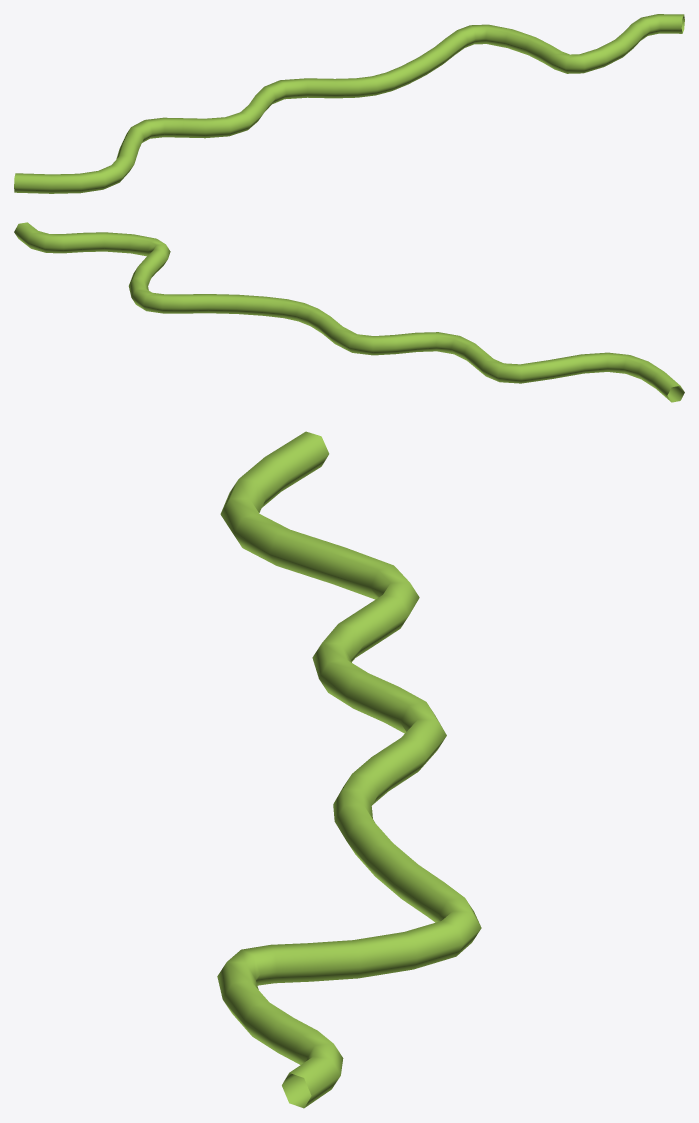
Rendered from factory-goo-pipe.obj.
3 renders of one model, top to bottom at view 1: azimuth 30°, elevation 25°; view 2: azimuth 150°, elevation 25°; view 3: azimuth 270°, elevation 25°, orthographic. The views are drawn at different scales.
Visible parts, largest first — view 1: factory-goo-pipe; view 2: factory-goo-pipe; view 3: factory-goo-pipe.
Part boxes in pixels (<box>): factory-goo-pipe: <box>14,14,684,193</box>; factory-goo-pipe: <box>14,222,684,402</box>; factory-goo-pipe: <box>217,431,481,1108</box>.
Bounding box in the file's own units: 12.23 × 0.2667 × 2.1.
1 material, 1 textured.
